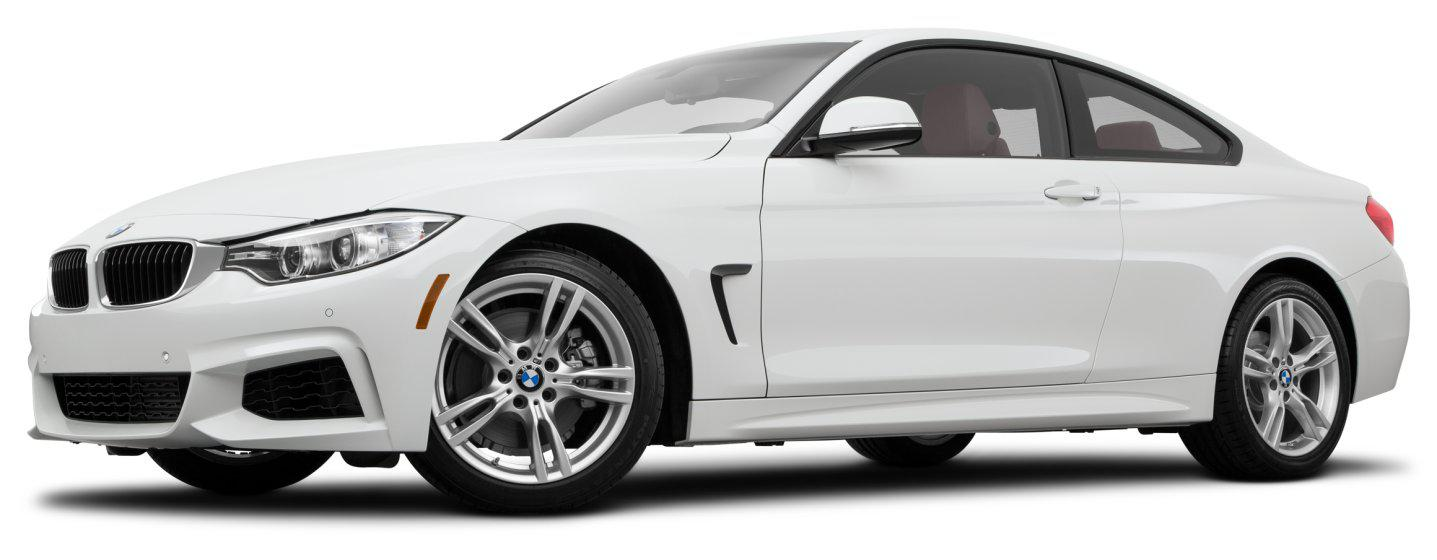bmw: (26, 26, 1426, 523)
